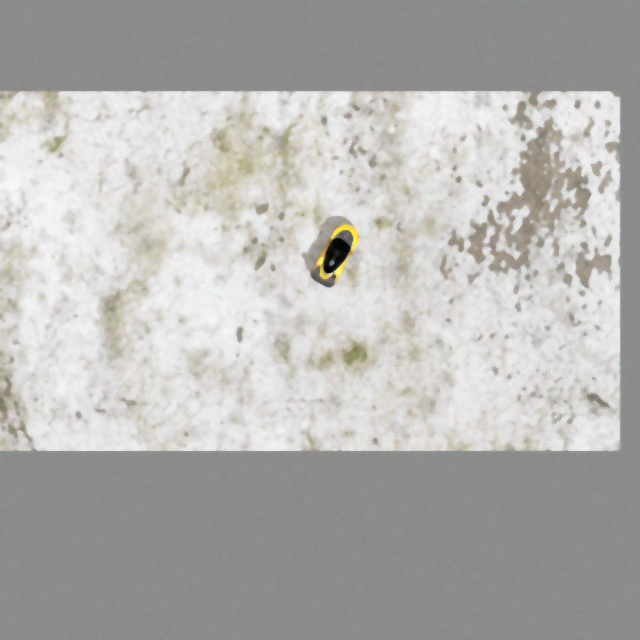car: (306, 218, 366, 292)
